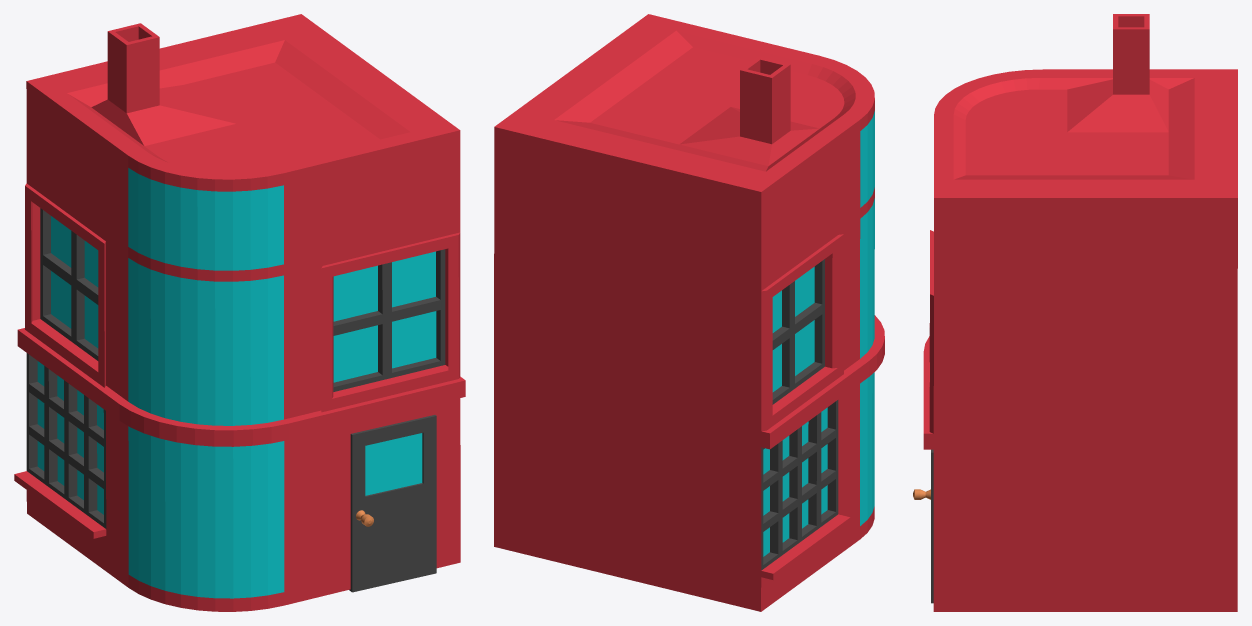
Rendered from Red curved building.fbx.
3 views of the same model, side by side, from view 1: azimuth 30°, elevation 25°; view 2: azimuth 150°, elevation 25°; view 3: azimuth 270°, elevation 25° (orthographic). The views are drawn at different scales.
Visible parts, largest first — view 1: Cube, Cube.001; view 2: Cube; view 3: Cube, Cube.001.
Boxes of the visible parts, x1,y1,x2,y2 form: Cube: (14, 14, 465, 611); Cube.001: (349, 415, 436, 592); Cube: (494, 14, 884, 611); Cube: (923, 14, 1237, 611); Cube.001: (931, 449, 933, 603).
Bounding box in the file's own units: 2090 × 3549 × 2135.
